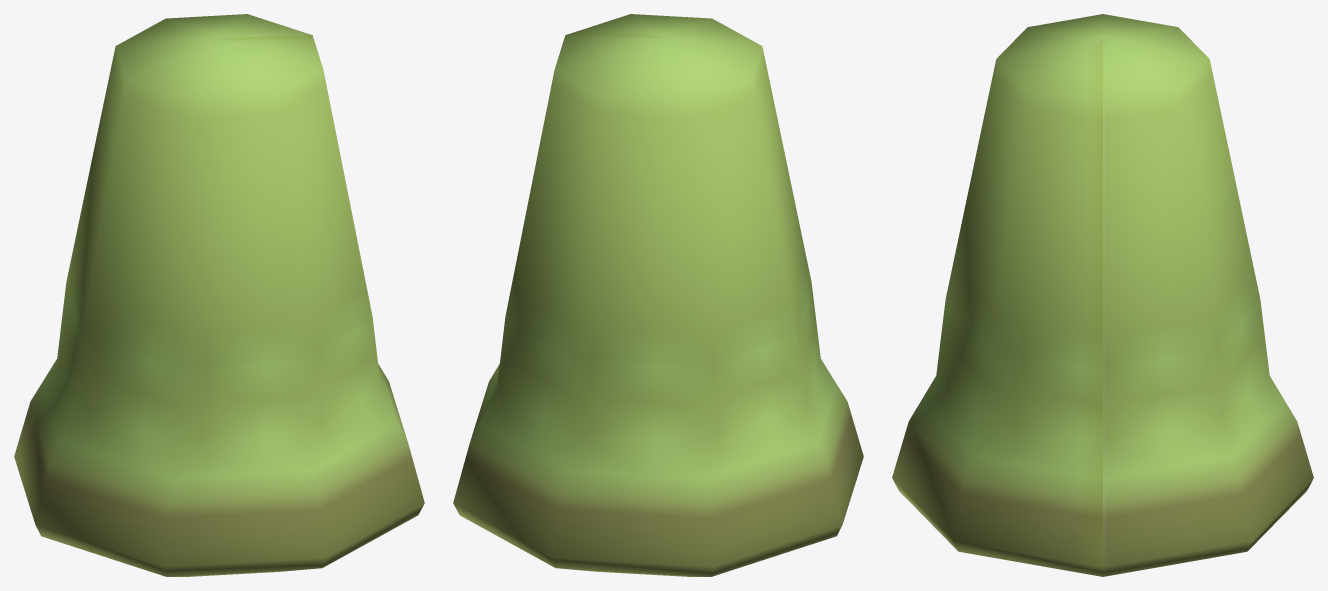
File: bell.fbx
The picture shows the model from 3 angles, left to right: view 1: azimuth 30°, elevation 25°; view 2: azimuth 150°, elevation 25°; view 3: azimuth 270°, elevation 25°; orthographic projection.
Visible parts, largest first — view 1: bell 1; view 2: bell 1; view 3: bell 1.
Part boxes in pixels (left/top/right/bottom): bell 1: left=14, top=14, right=424, bottom=576; bell 1: left=453, top=14, right=863, bottom=576; bell 1: left=892, top=14, right=1313, bottom=576.
Size of the model in its own units: 163 by 209 by 163.
Materials: 1 (1 with a texture image).
